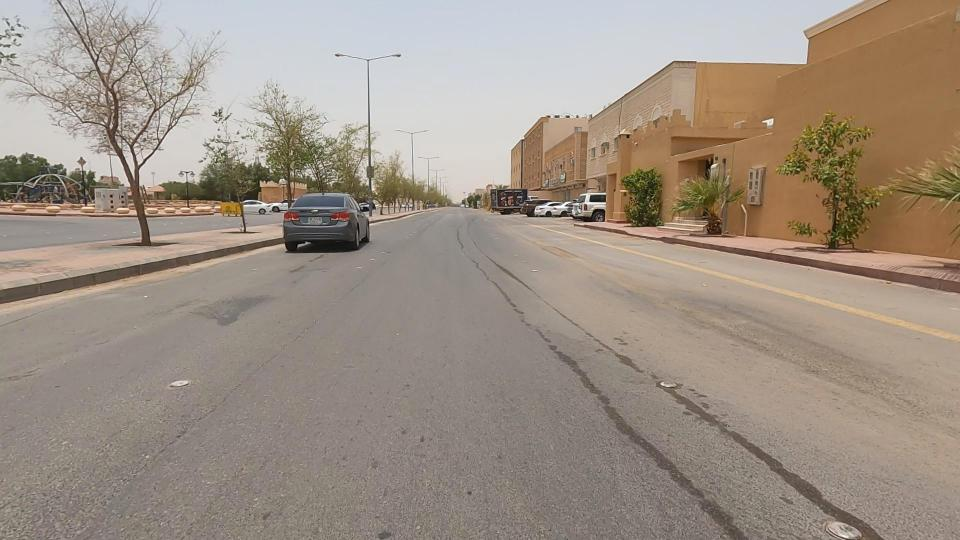POTHOLES: (512, 219, 597, 277)
